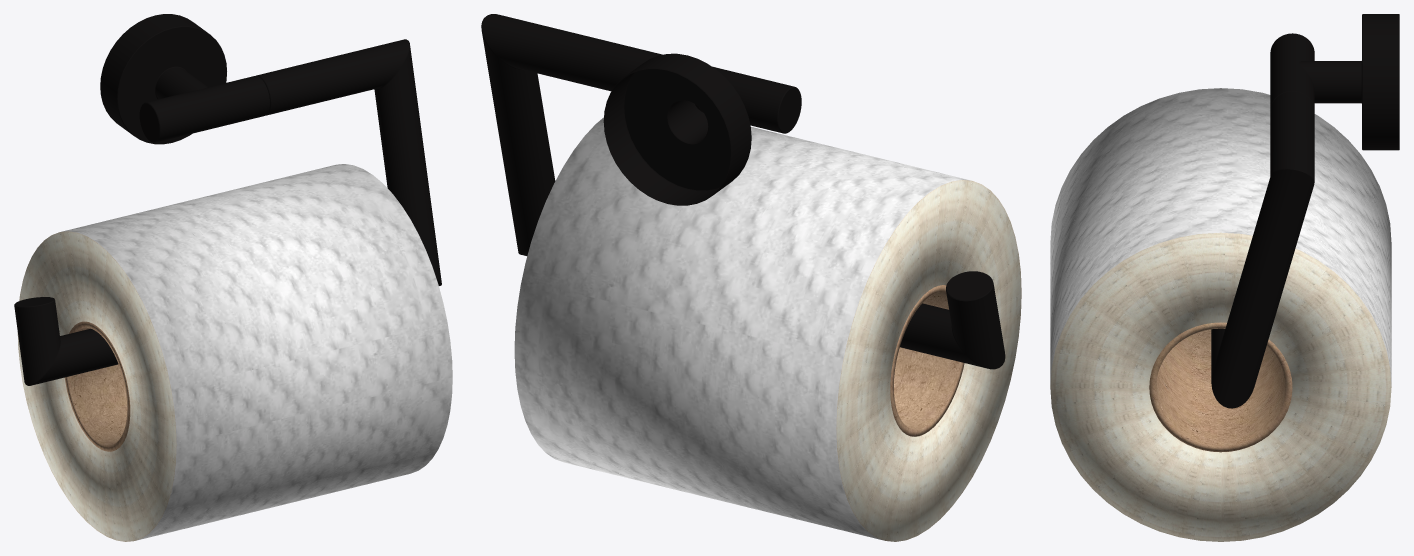
The picture shows the model from 3 angles, left to right: view 1: azimuth 30°, elevation 25°; view 2: azimuth 150°, elevation 25°; view 3: azimuth 270°, elevation 25°; orthographic projection. The views are drawn at different scales.
Parts seen in each view (by area): view 1: toilet_paper.001, Toilet paper holder; view 2: toilet_paper.001, Toilet paper holder; view 3: toilet_paper.001, Toilet paper holder.
Part boxes in pixels (left/top/right/bottom): toilet_paper.001: left=17, top=164, right=452, bottom=541; Toilet paper holder: left=14, top=14, right=441, bottom=385; toilet_paper.001: left=514, top=117, right=1021, bottom=541; Toilet paper holder: left=481, top=14, right=1005, bottom=369; toilet_paper.001: left=1050, top=88, right=1391, bottom=541; Toilet paper holder: left=1211, top=14, right=1399, bottom=408.
Bounding box in the file's own units: 0.1406 × 0.1369 × 0.0961.
Materials: 4 (3 with a texture image).
